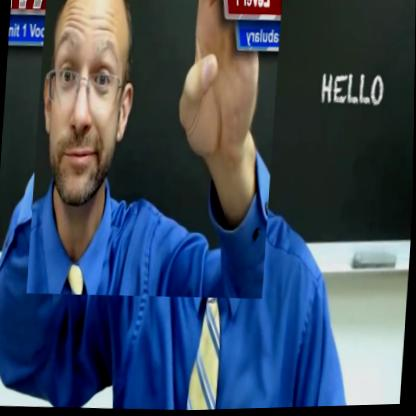Hello: (26, 0, 282, 305)
